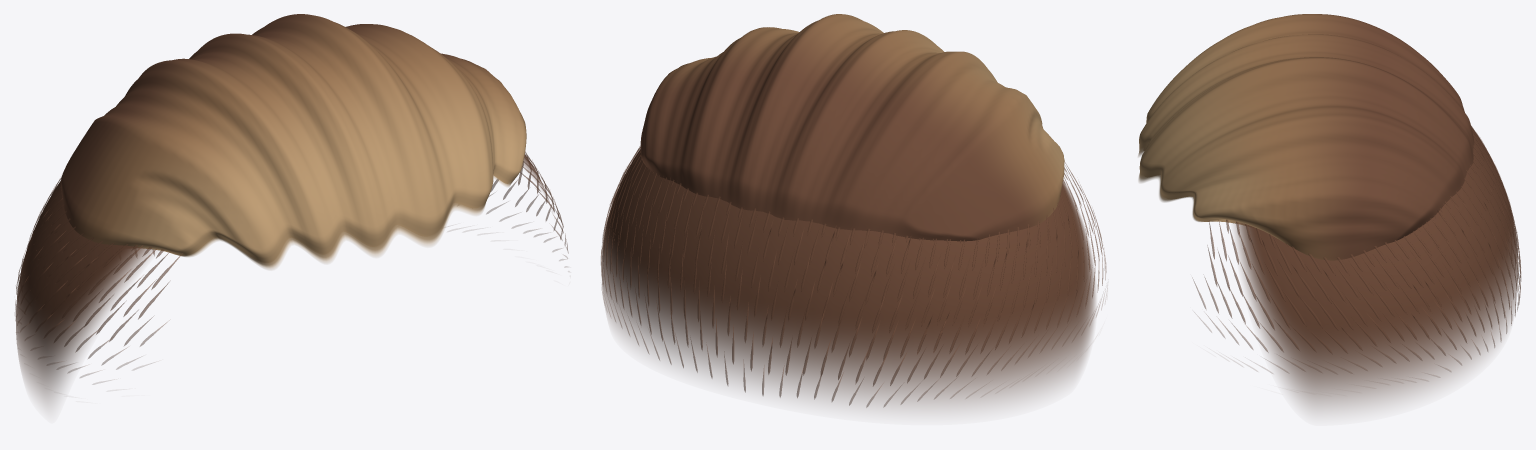
Rendered from Masculine-sidepart-beanie259-hair-ombre.glb.
3 renders of one model, left to right at view 1: azimuth 30°, elevation 25°; view 2: azimuth 150°, elevation 25°; view 3: azimuth 270°, elevation 25°, orthographic. The views are drawn at different scales.
Parts seen in each view (by area): view 1: 226 hair / Hair259 / textured forward Crop, 226 hair / Hair258 / smooth side fade, 226 hair / Hair259 / directional fade marks214; view 2: 226 hair / Hair258 / smooth side fade, 226 hair / Hair259 / textured forward Crop, 226 hair / Hair259 / directional fade marks214; view 3: 226 hair / Hair259 / textured forward Crop, 226 hair / Hair258 / smooth side fade, 226 hair / Hair259 / directional fade marks214.
Boxes of the visible parts, <box> form: 226 hair / Hair259 / textured forward Crop: <box>61,14,526,269</box>; 226 hair / Hair258 / smooth side fade: <box>16,154,551,405</box>; 226 hair / Hair259 / directional fade marks214: <box>15,152,568,384</box>; 226 hair / Hair258 / smooth side fade: <box>601,149,1095,409</box>; 226 hair / Hair259 / textured forward Crop: <box>640,14,1064,241</box>; 226 hair / Hair259 / directional fade marks214: <box>601,146,1107,407</box>; 226 hair / Hair259 / textured forward Crop: <box>1138,14,1474,260</box>; 226 hair / Hair258 / smooth side fade: <box>1234,128,1518,411</box>; 226 hair / Hair259 / directional fade marks214: <box>1193,125,1521,380</box>.
Size of the model in its own units: 0.9743 by 0.6424 by 0.7545.
